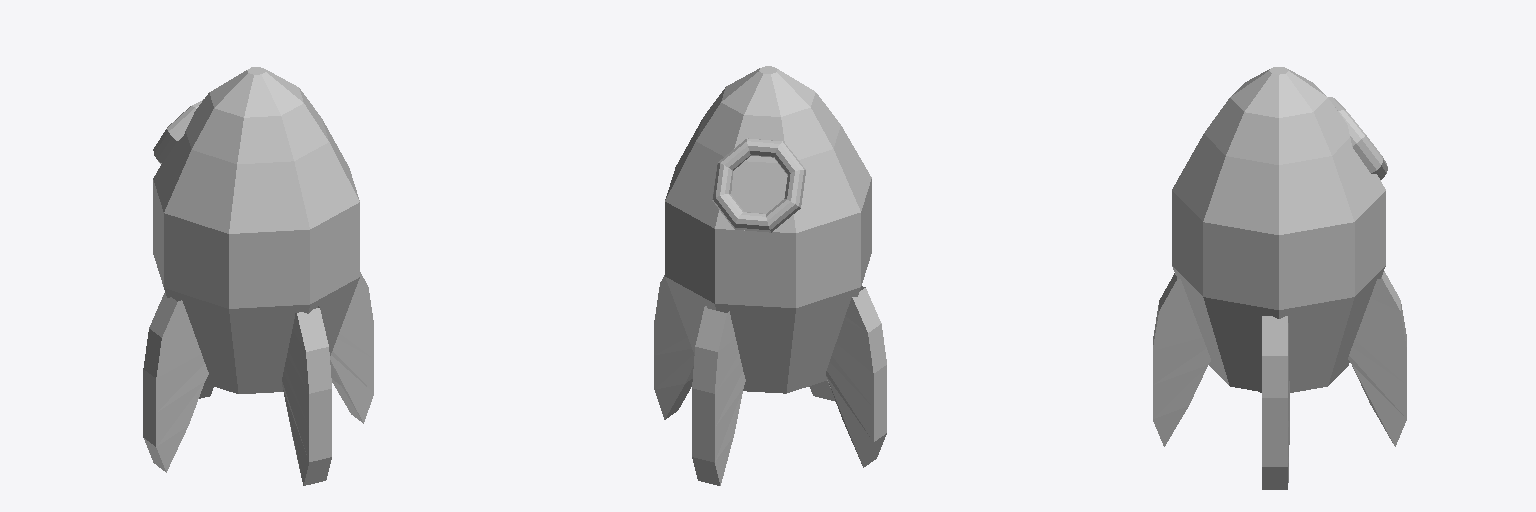
Rendered from nave.obj.
The picture shows the model from 3 angles: view 1: azimuth 30°, elevation 25°; view 2: azimuth 150°, elevation 25°; view 3: azimuth 270°, elevation 25°; orthographic projection.
Visible parts, largest first — view 1: Cilindro, Cubo.005, Cubo.004, Cubo.002_Cubo.006, Torus; view 2: Cilindro, Cubo.005, Cubo.001, Torus, Cubo.002_Cubo.006; view 3: Cilindro, Cubo.001, Cubo.004, Cubo.002_Cubo.006, Torus.
Boxes of the visible parts, x1=… form: Cilindro: x1=153, y1=67, x2=359, y2=393; Cubo.005: x1=143, y1=293, x2=208, y2=472; Cubo.004: x1=282, y1=306, x2=331, y2=485; Cubo.002_Cubo.006: x1=330, y1=272, x2=373, y2=423; Torus: x1=153, y1=99, x2=203, y2=163; Cilindro: x1=665, y1=66, x2=871, y2=393; Cubo.005: x1=826, y1=286, x2=886, y2=467; Cubo.001: x1=692, y1=306, x2=745, y2=485; Torus: x1=712, y1=138, x2=805, y2=232; Cubo.002_Cubo.006: x1=654, y1=275, x2=694, y2=419; Cilindro: x1=1172, y1=67, x2=1385, y2=392; Cubo.001: x1=1348, y1=271, x2=1406, y2=446; Cubo.004: x1=1153, y1=273, x2=1210, y2=446; Cubo.002_Cubo.006: x1=1262, y1=316, x2=1289, y2=489; Torus: x1=1328, y1=97, x2=1387, y2=179.
Size of the model in its own units: 2.36 by 3.82 by 2.38.